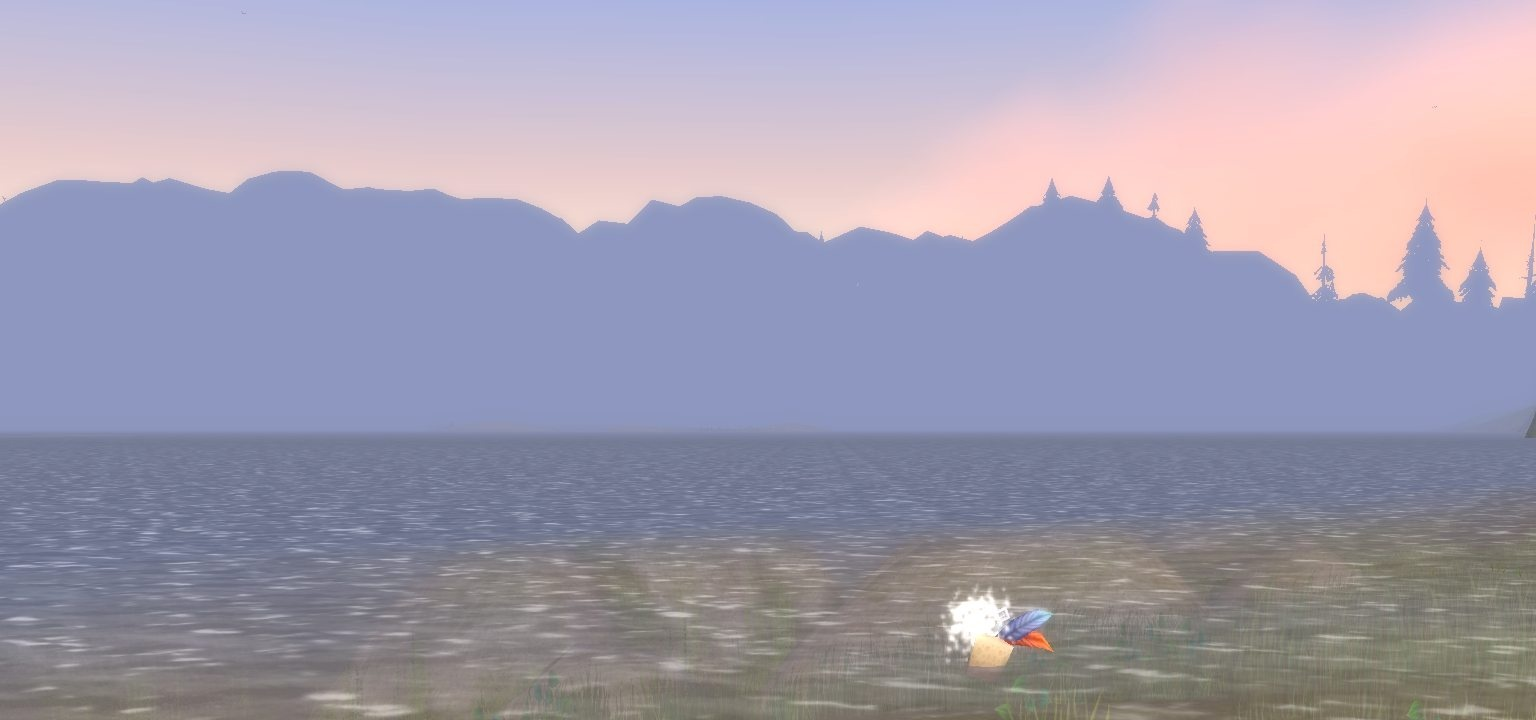Splash: (965, 605, 1060, 668)
